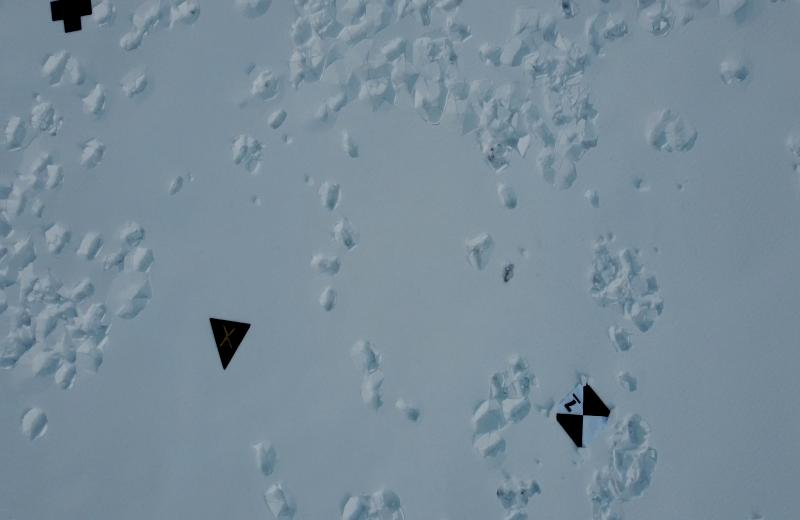Cross: (48, 0, 90, 35)
Triangle: (207, 316, 252, 371)
